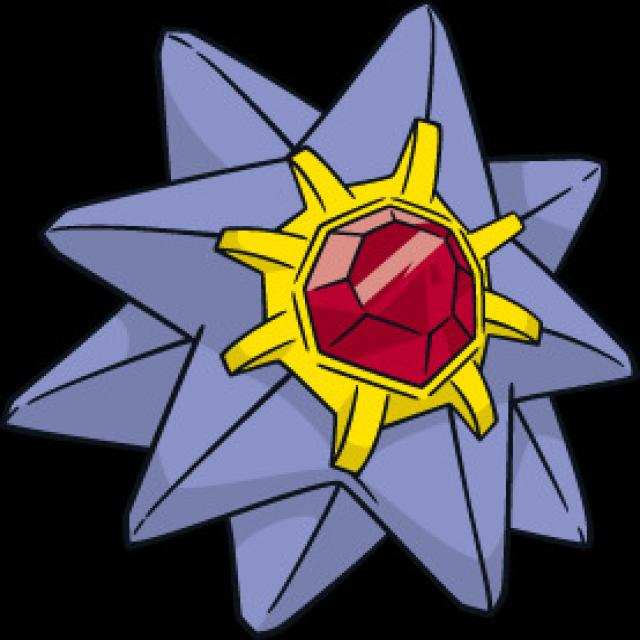Starmie: (83, 0, 640, 594)
